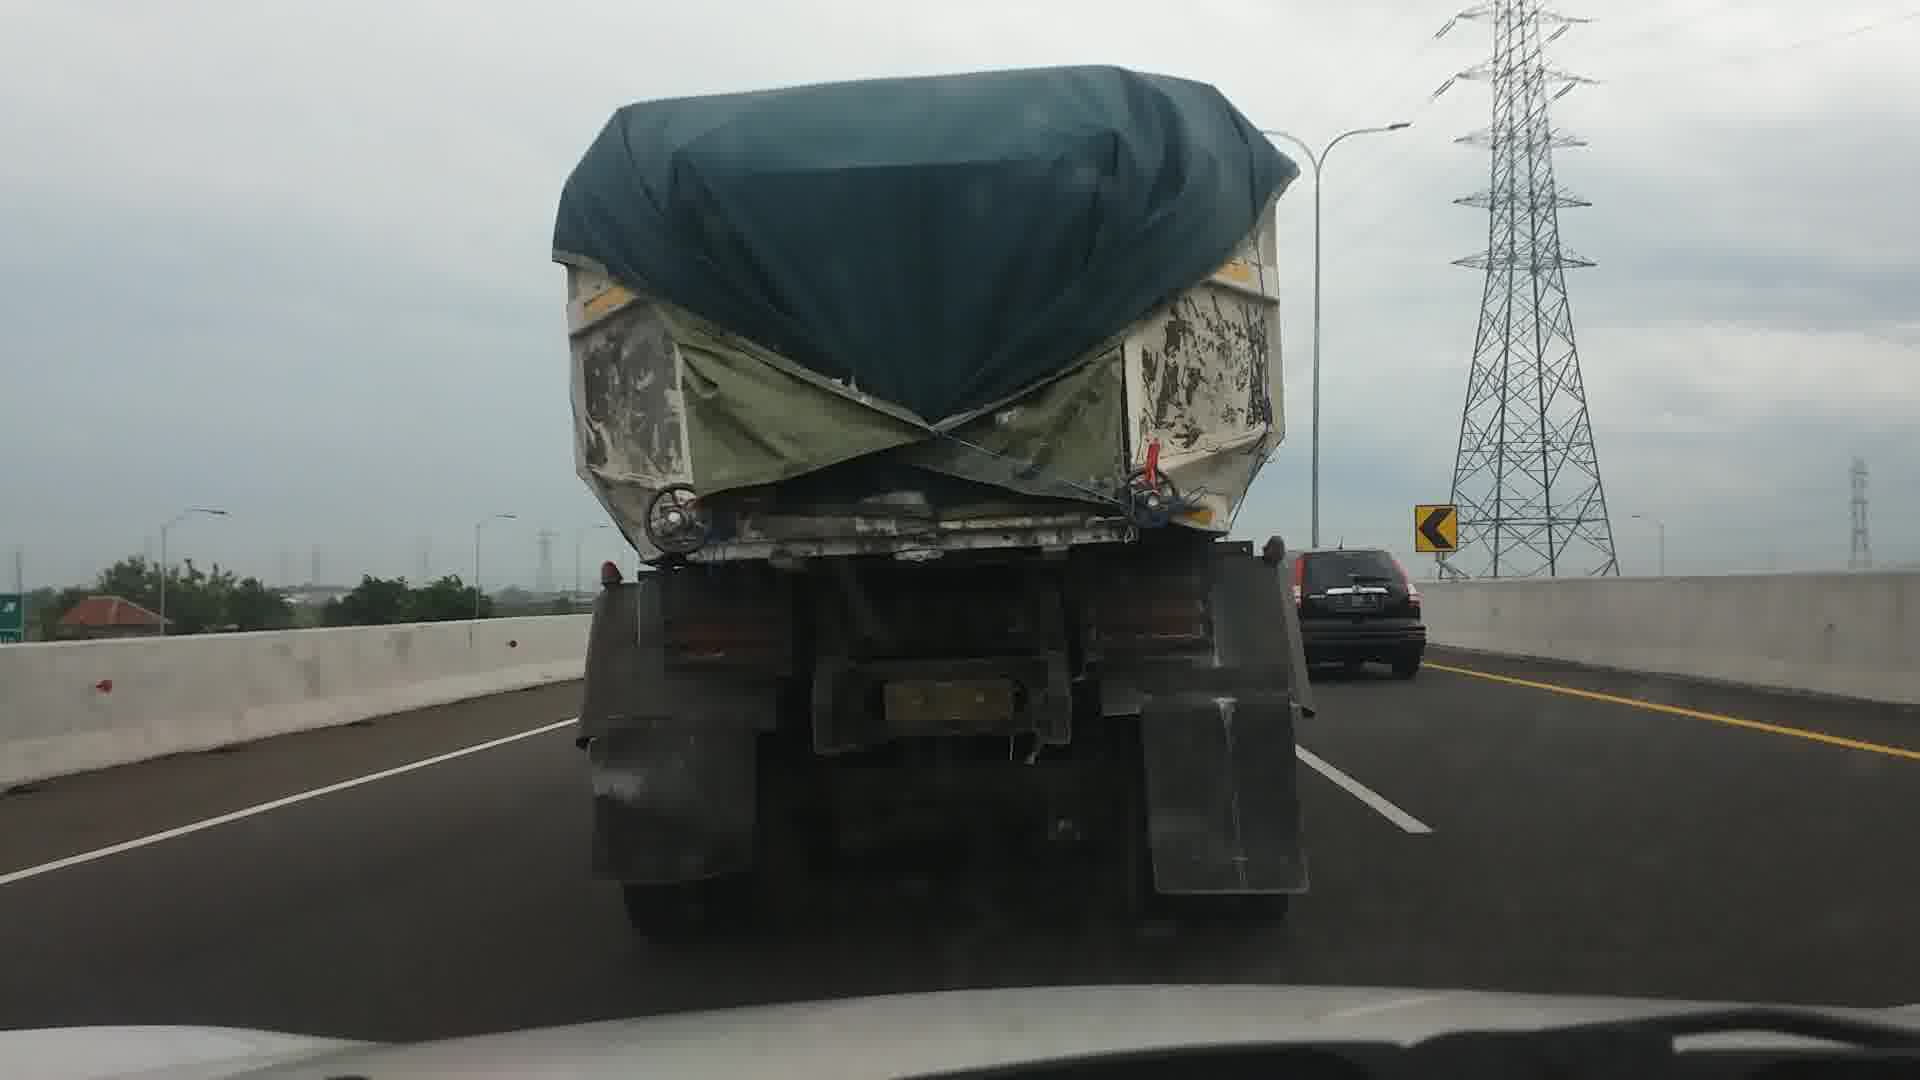plate_positive: (885, 675, 1015, 723)
